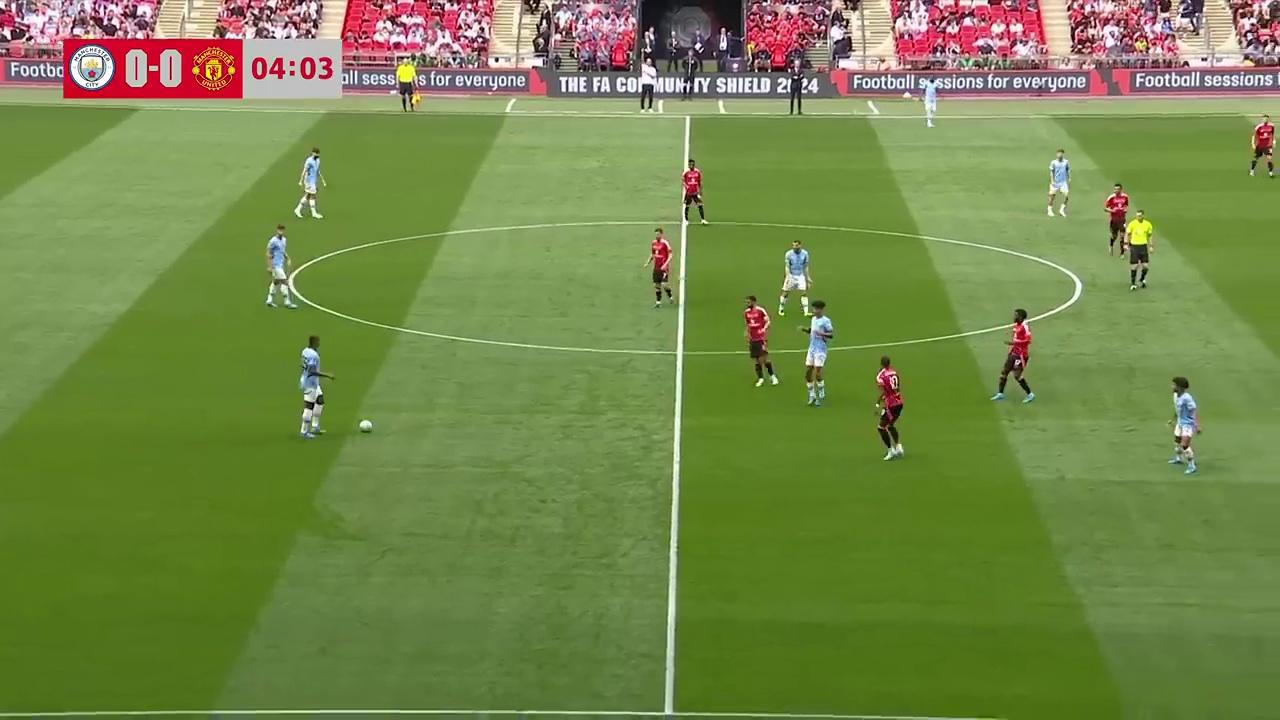ball: (358, 417, 373, 433)
player: (990, 309, 1034, 403), (799, 301, 834, 407), (298, 334, 333, 438), (743, 294, 779, 387), (874, 356, 905, 461), (1168, 377, 1201, 474), (264, 223, 298, 310), (778, 239, 812, 316), (643, 228, 674, 308), (295, 146, 327, 219), (1103, 183, 1129, 256), (681, 158, 707, 225), (1249, 118, 1277, 177), (1047, 148, 1070, 218)
referee: (1127, 209, 1154, 289), (398, 59, 421, 112)
